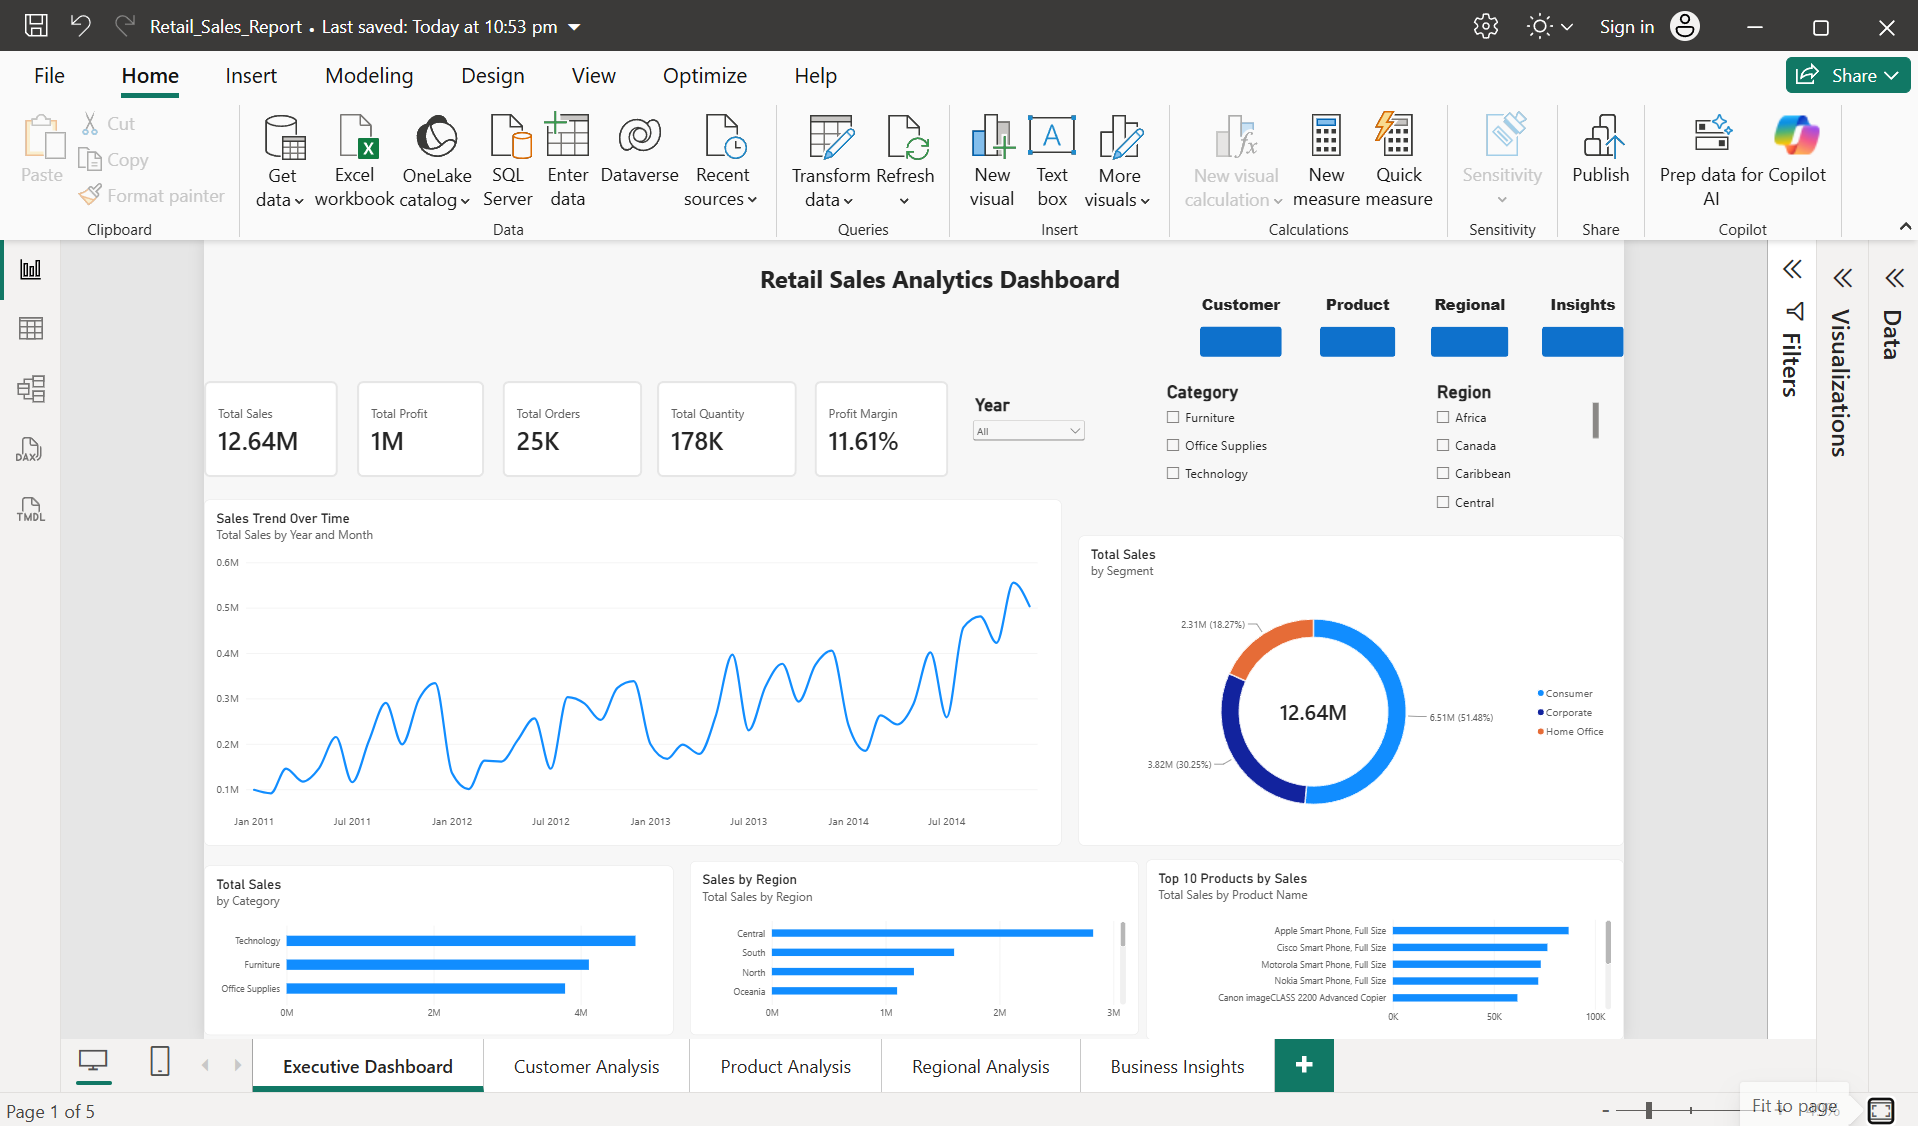

The page's visual inventory and layout, read from the dashboard file:
{"tool":"powerbi","page":{"name":"Executive Dashboard","canvas":[1920,1080],"ordinal":0},"visuals":[{"type":"cardVisual","fields":{"Data":["Sheet1.Total Sales"]},"box":[0,189.9,181.4,130.4],"z":0},{"type":"cardVisual","fields":{"Data":["Sheet1.Total Profit"]},"box":[206.9,189.9,172.9,130.4],"z":1000},{"type":"cardVisual","fields":{"Data":["Sheet1.Total Orders"]},"box":[402.5,189.9,189.9,130.4],"z":2000},{"type":"cardVisual","fields":{"Data":["Sheet1.Total Quantity"]},"box":[612.3,189.9,189.9,130.4],"z":3000},{"type":"cardVisual","fields":{"Data":["Sheet1.Profit Margin"]},"box":[824.9,189.9,181.4,130.4],"z":4000},{"type":"lineChart","title":"Sales Trend Over Time","fields":{"Category":["Sheet1.Order Date.Variation.Date Hierarchy.Year","Sheet1.Order Date.Variation.Date Hierarchy.Month"],"Y":["Sheet1.Total Sales"]},"box":[0,351.5,1159.4,467.7],"z":5000},{"type":"clusteredBarChart","fields":{"Category":["Sheet1.Category"],"Y":["Sheet1.Total Sales"]},"box":[0,844.7,635,229.6],"z":6000},{"type":"clusteredBarChart","title":"Top 10 Products by Sales","fields":{"Category":["Sheet1.Product Name"],"Y":["Sheet1.Total Sales"]},"box":[1273.3,837.2,646.3,243.8],"z":7000},{"type":"clusteredBarChart","title":"Sales by Region","fields":{"Category":["Sheet1.Region"],"Y":["Sheet1.Total Sales"]},"box":[657.6,839.1,606.6,235.3],"z":8000},{"type":"slicer","fields":{"Values":["Sheet1.Category"]},"box":[1292.6,189.9,215.4,161.6],"z":9000},{"type":"slicer","fields":{"Values":["Sheet1.Region"]},"box":[1658.3,189.9,226.8,184.3],"z":10000},{"type":"slicer","fields":{"Values":["Sheet1.Year"]},"box":[1034.7,209.8,161.6,110.6],"z":11000},{"type":"donutChart","fields":{"Category":["Sheet1.Segment"],"Y":["Sheet1.Total Sales"]},"box":[1182.1,399.7,737,419.5],"z":12000},{"type":"textbox","box":[0,0,1919.1,93.5],"z":13000},{"type":"actionButton","title":"Product","box":[1508,73.7,102,85],"z":14000},{"type":"actionButton","title":"Regional","box":[1658.3,73.7,104.9,85],"z":15000},{"type":"actionButton","title":"Insights","box":[1808.5,73.7,110.6,85],"z":16000},{"type":"actionButton","title":"Customer","box":[1346.5,73.7,110.6,85],"z":17000}]}

Visuals, with their boxes on the page's 1920x1080 design canvas (x1, y1, x2, y2). These are canvas units, not pixel positions in the 1918x1126 screenshot, which may show the page scaled, cropped or inside an application window:
cardVisual - Sheet1.Total Sales: (left=0, top=190, right=181, bottom=320)
cardVisual - Sheet1.Total Profit: (left=207, top=190, right=380, bottom=320)
cardVisual - Sheet1.Total Orders: (left=402, top=190, right=592, bottom=320)
cardVisual - Sheet1.Total Quantity: (left=612, top=190, right=802, bottom=320)
cardVisual - Sheet1.Profit Margin: (left=825, top=190, right=1006, bottom=320)
"Sales Trend Over Time" lineChart: (left=0, top=352, right=1159, bottom=819)
clusteredBarChart - Sheet1.Category x Sheet1.Total Sales: (left=0, top=845, right=635, bottom=1074)
"Top 10 Products by Sales" clusteredBarChart: (left=1273, top=837, right=1920, bottom=1081)
"Sales by Region" clusteredBarChart: (left=658, top=839, right=1264, bottom=1074)
slicer - Sheet1.Category: (left=1293, top=190, right=1508, bottom=352)
slicer - Sheet1.Region: (left=1658, top=190, right=1885, bottom=374)
slicer - Sheet1.Year: (left=1035, top=210, right=1196, bottom=320)
donutChart - Sheet1.Segment x Sheet1.Total Sales: (left=1182, top=400, right=1919, bottom=819)
textbox: (left=0, top=0, right=1919, bottom=94)
"Product" actionButton: (left=1508, top=74, right=1610, bottom=159)
"Regional" actionButton: (left=1658, top=74, right=1763, bottom=159)
"Insights" actionButton: (left=1808, top=74, right=1919, bottom=159)
"Customer" actionButton: (left=1346, top=74, right=1457, bottom=159)
